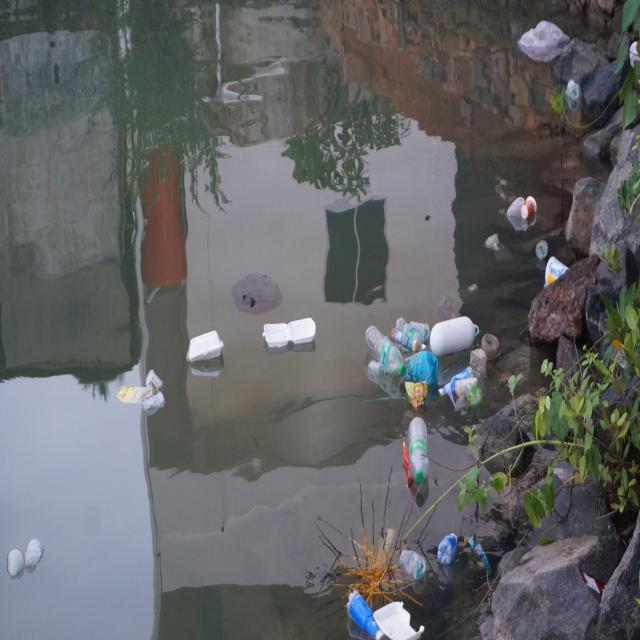Botol Plastik: (365, 324, 407, 379), (347, 586, 383, 640), (410, 415, 431, 486), (440, 367, 476, 398), (398, 316, 428, 353), (390, 325, 418, 357), (482, 329, 501, 367), (470, 349, 490, 385), (439, 533, 459, 566)
Bungkus Makanan: (263, 312, 323, 354), (185, 323, 227, 376), (374, 600, 425, 640), (543, 254, 570, 292), (118, 382, 157, 407), (406, 382, 432, 413), (400, 440, 416, 488)
Bungkus Minuman: (401, 549, 426, 577), (26, 538, 45, 570), (144, 391, 168, 415), (8, 549, 27, 578), (410, 318, 431, 342), (466, 383, 483, 411), (146, 368, 165, 391), (369, 360, 387, 383), (523, 196, 538, 221), (536, 238, 549, 261), (569, 79, 581, 102)
Kantong Plastik: (517, 18, 569, 69), (231, 267, 284, 316), (407, 353, 439, 395), (484, 233, 513, 267), (506, 195, 526, 221)
